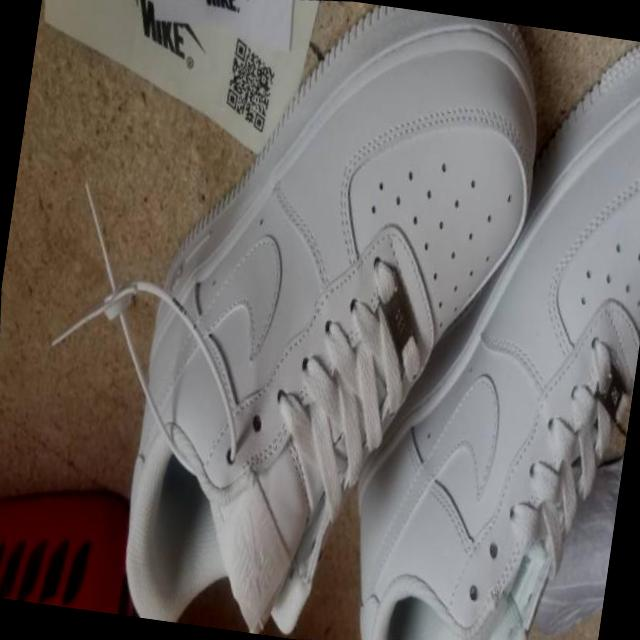nike_fake_airforce: (54, 0, 603, 640), (283, 4, 640, 640)
